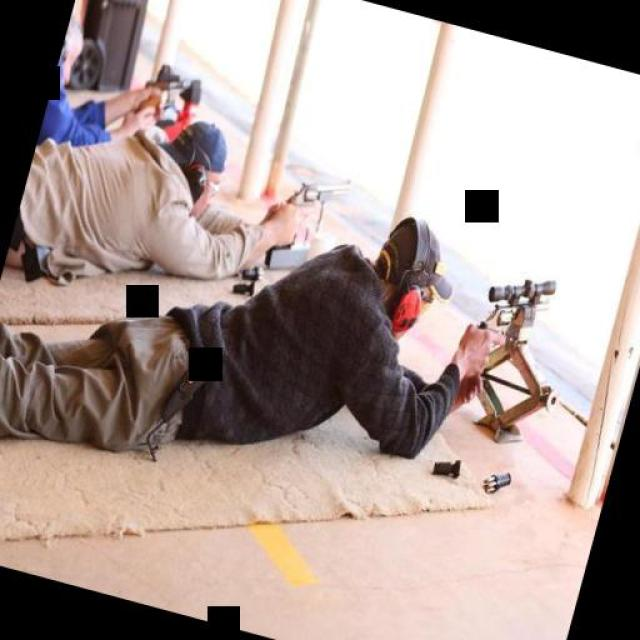gun: (458, 256, 562, 378), (275, 159, 356, 229), (132, 64, 192, 124)
